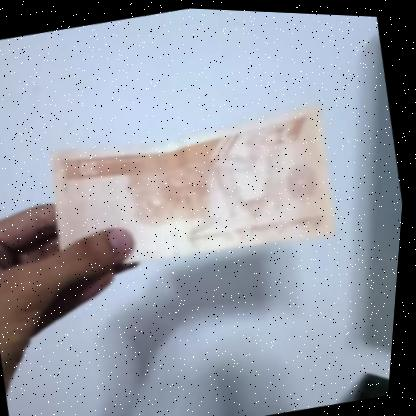twenty-back-vef: (34, 89, 348, 293)
